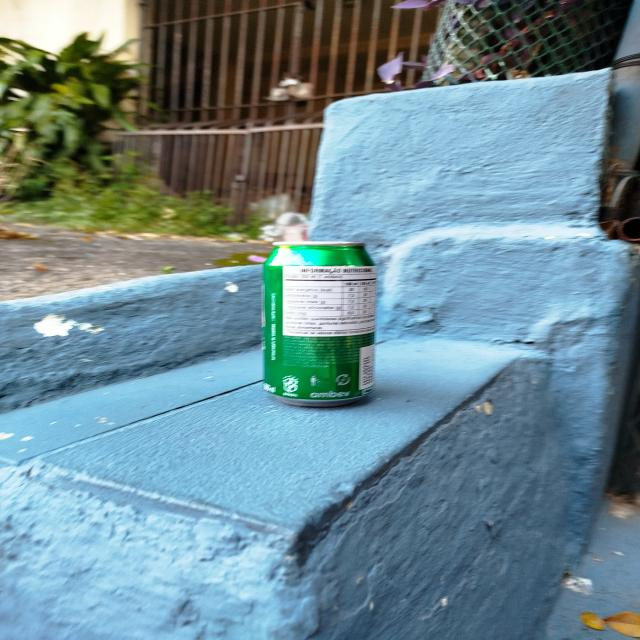Guarana: (266, 243, 379, 410)
